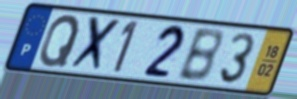1: (112, 20, 139, 76)
2: (138, 21, 190, 82)
3: (217, 32, 257, 86)
B: (174, 27, 223, 85)
Q: (38, 13, 83, 69)
X: (66, 14, 124, 75)
